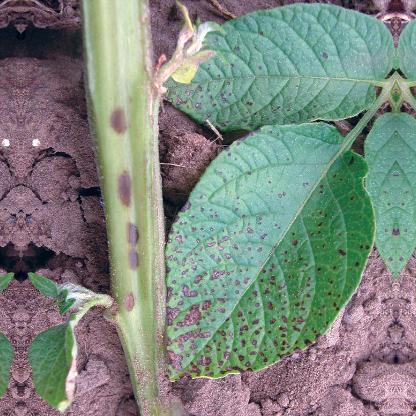Early-Blight: (31, 10, 395, 412), (163, 117, 377, 385), (156, 1, 392, 125), (22, 314, 94, 410), (0, 313, 17, 410)
